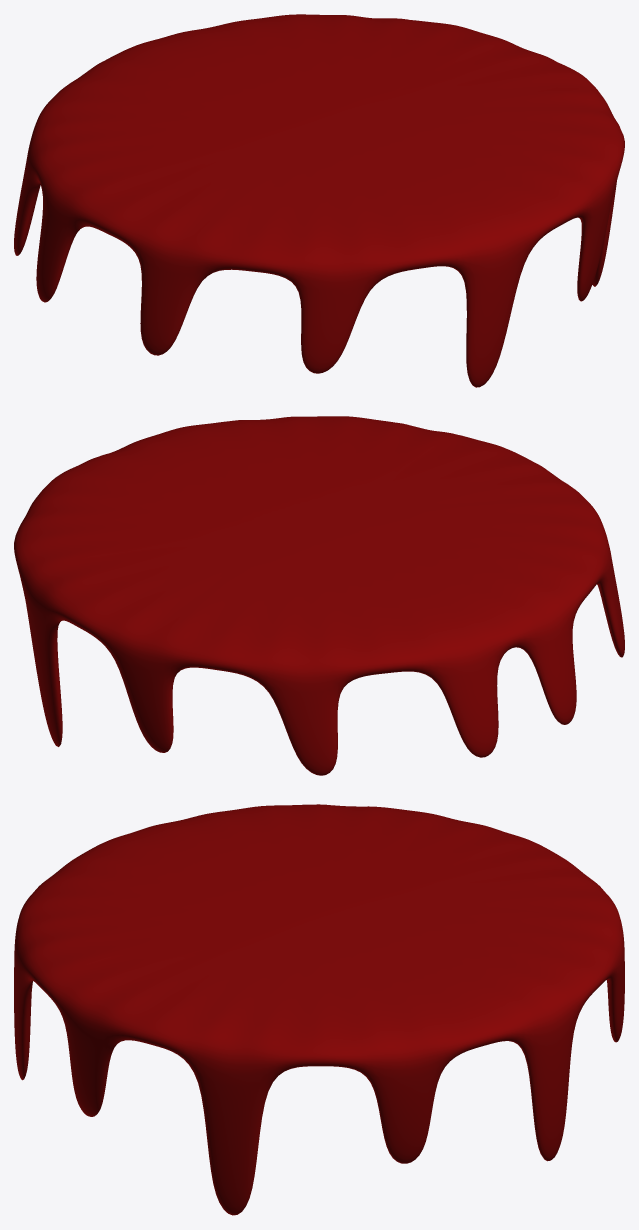
Rendered from Choco2.gltf.
The picture shows the model from 3 angles, top to bottom: view 1: azimuth 30°, elevation 25°; view 2: azimuth 150°, elevation 25°; view 3: azimuth 270°, elevation 25°; orthographic projection. The views are drawn at different scales.
Visible parts, largest first — view 1: Object_2; view 2: Object_2; view 3: Object_2.
Part boxes in pixels (left/top/right/bottom): Object_2: left=14, top=14, right=624, bottom=387; Object_2: left=14, top=416, right=624, bottom=775; Object_2: left=14, top=804, right=624, bottom=1215.
Size of the model in its own units: 128 by 43.44 by 125.
